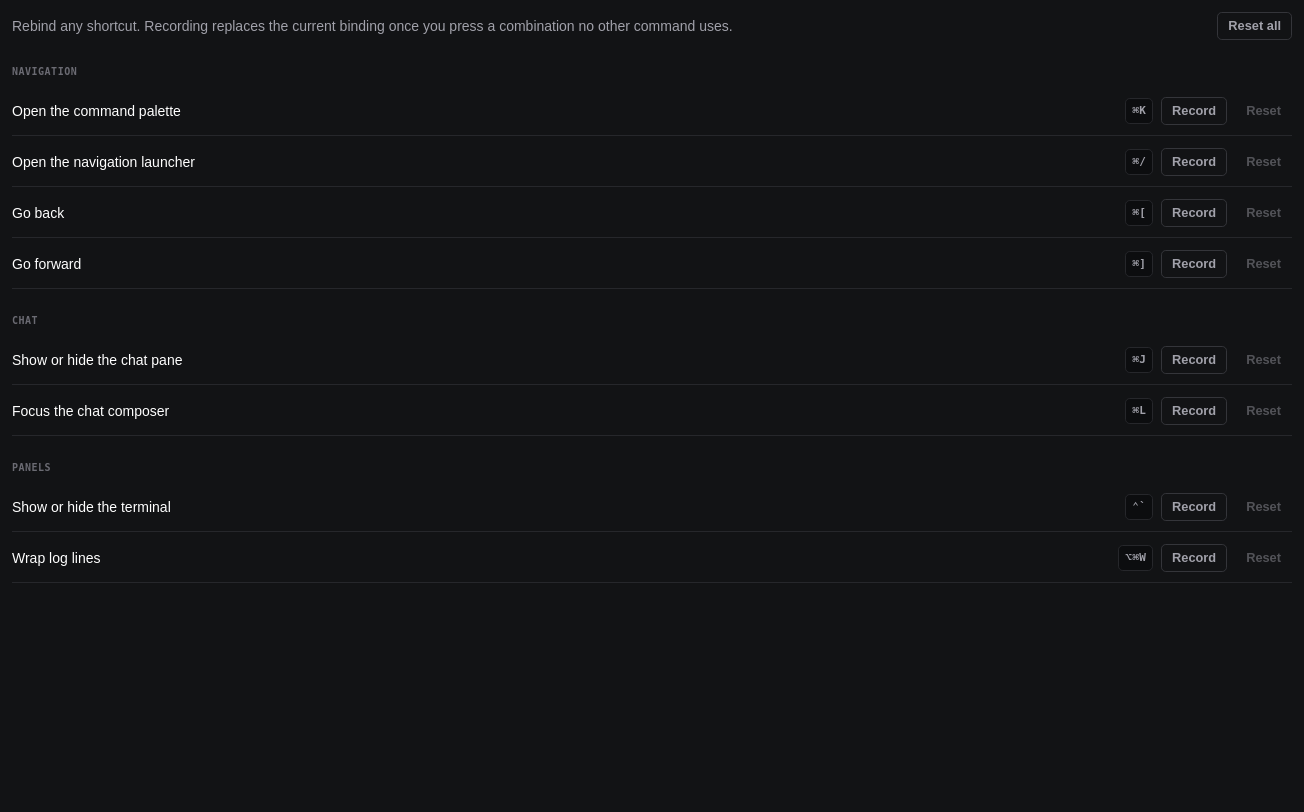
Test: KeyboardTab › warns about a binding that will be inert in text fields
Click the button with aria-label "Record Show or hide the chat pane".
click(1194, 360)  # box [1161, 346, 1227, 374]
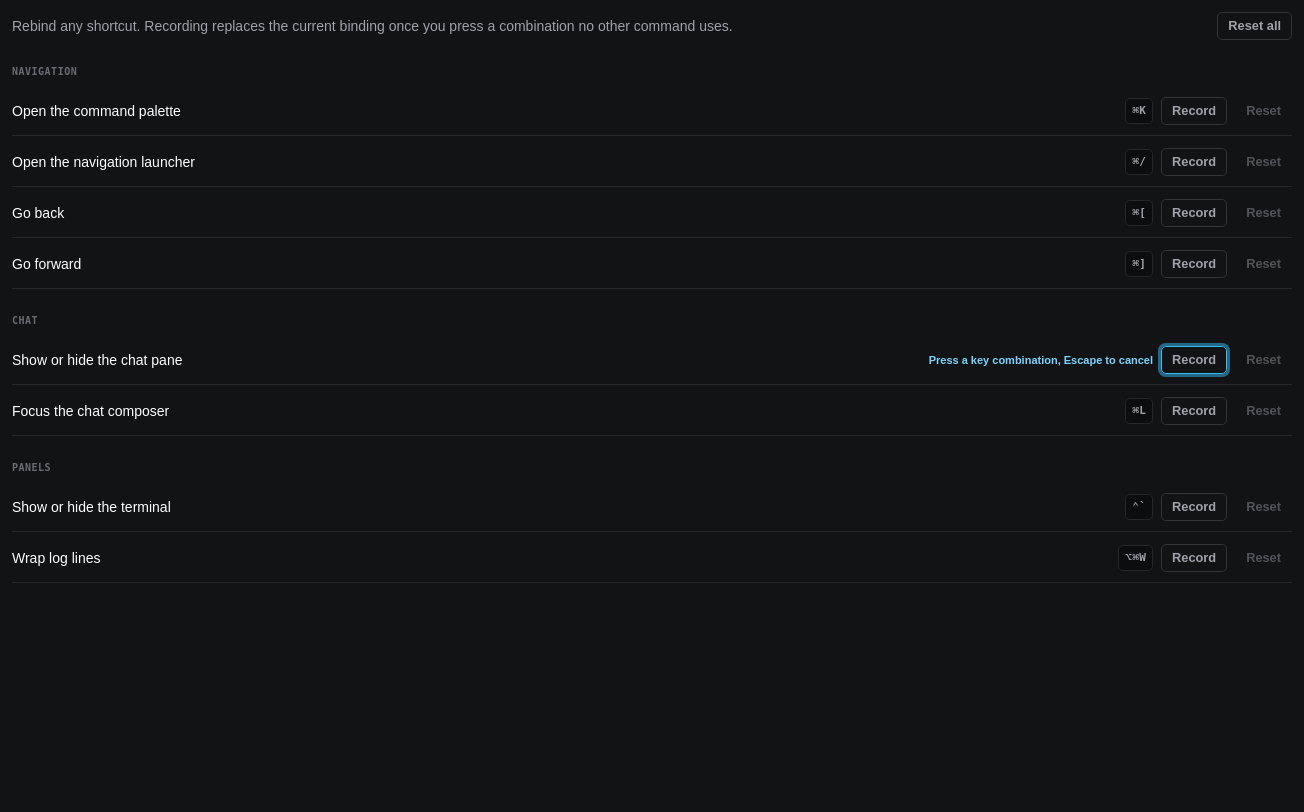
Press F2
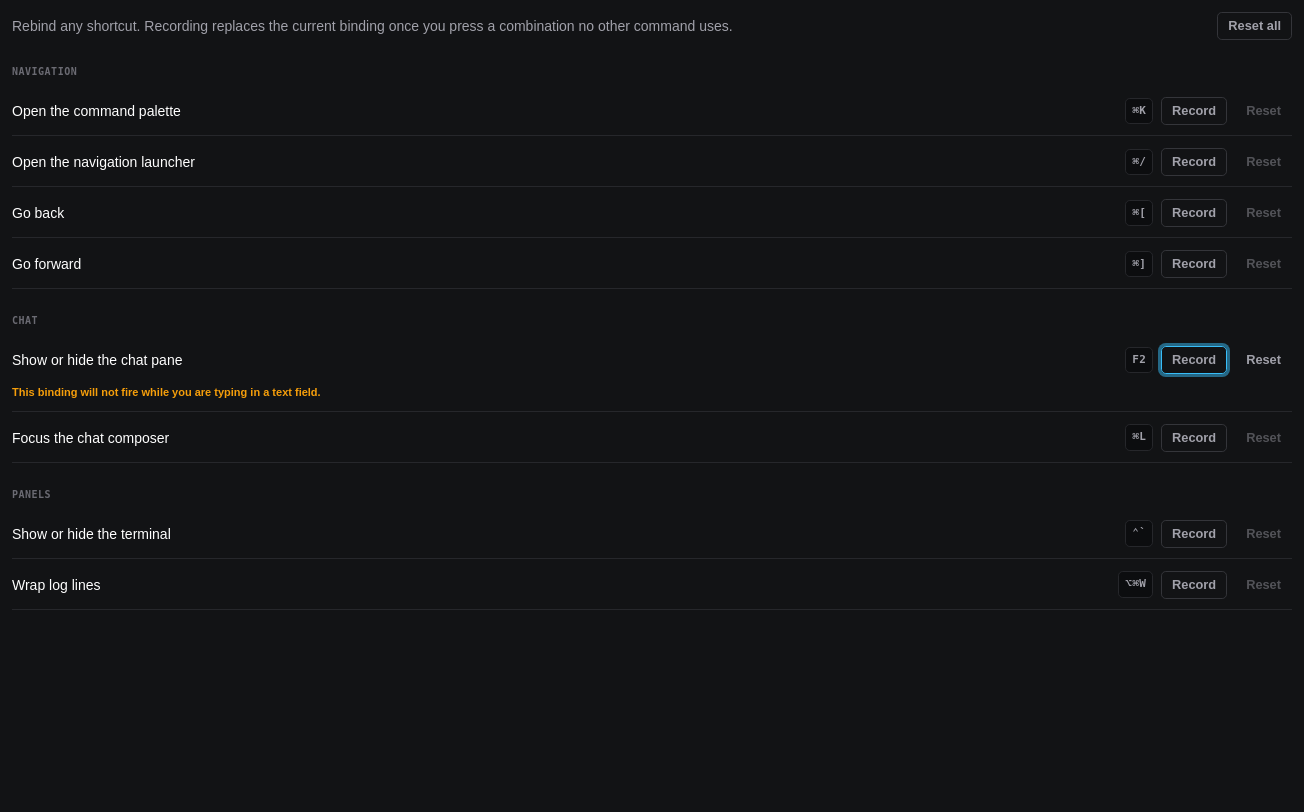
Result: the text "will not fire while you are typing" is shown at [12, 386, 321, 398]
